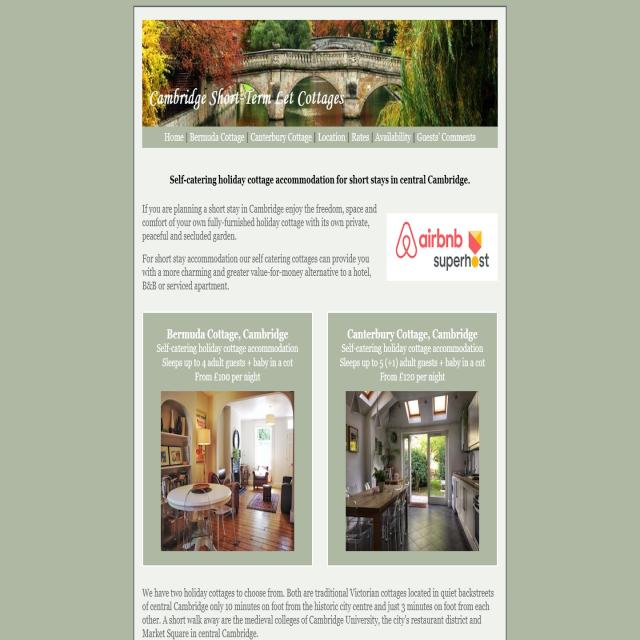button: (250, 130, 313, 149), (189, 130, 246, 149), (416, 131, 477, 147), (374, 130, 413, 147), (316, 131, 347, 148), (349, 129, 371, 150), (163, 130, 186, 146)
heading: (168, 170, 472, 190), (147, 87, 346, 110), (167, 324, 290, 344), (347, 326, 479, 344)
image: (142, 20, 498, 127), (344, 389, 480, 552), (161, 391, 294, 551), (386, 213, 497, 284)
text: (142, 585, 496, 640), (142, 200, 378, 244), (142, 250, 373, 293), (156, 340, 300, 386), (340, 344, 488, 384)
